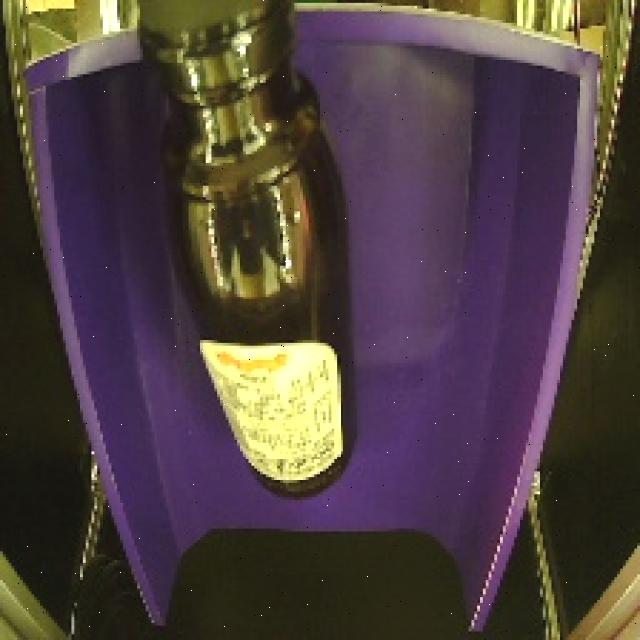plastic: (106, 0, 377, 520)
